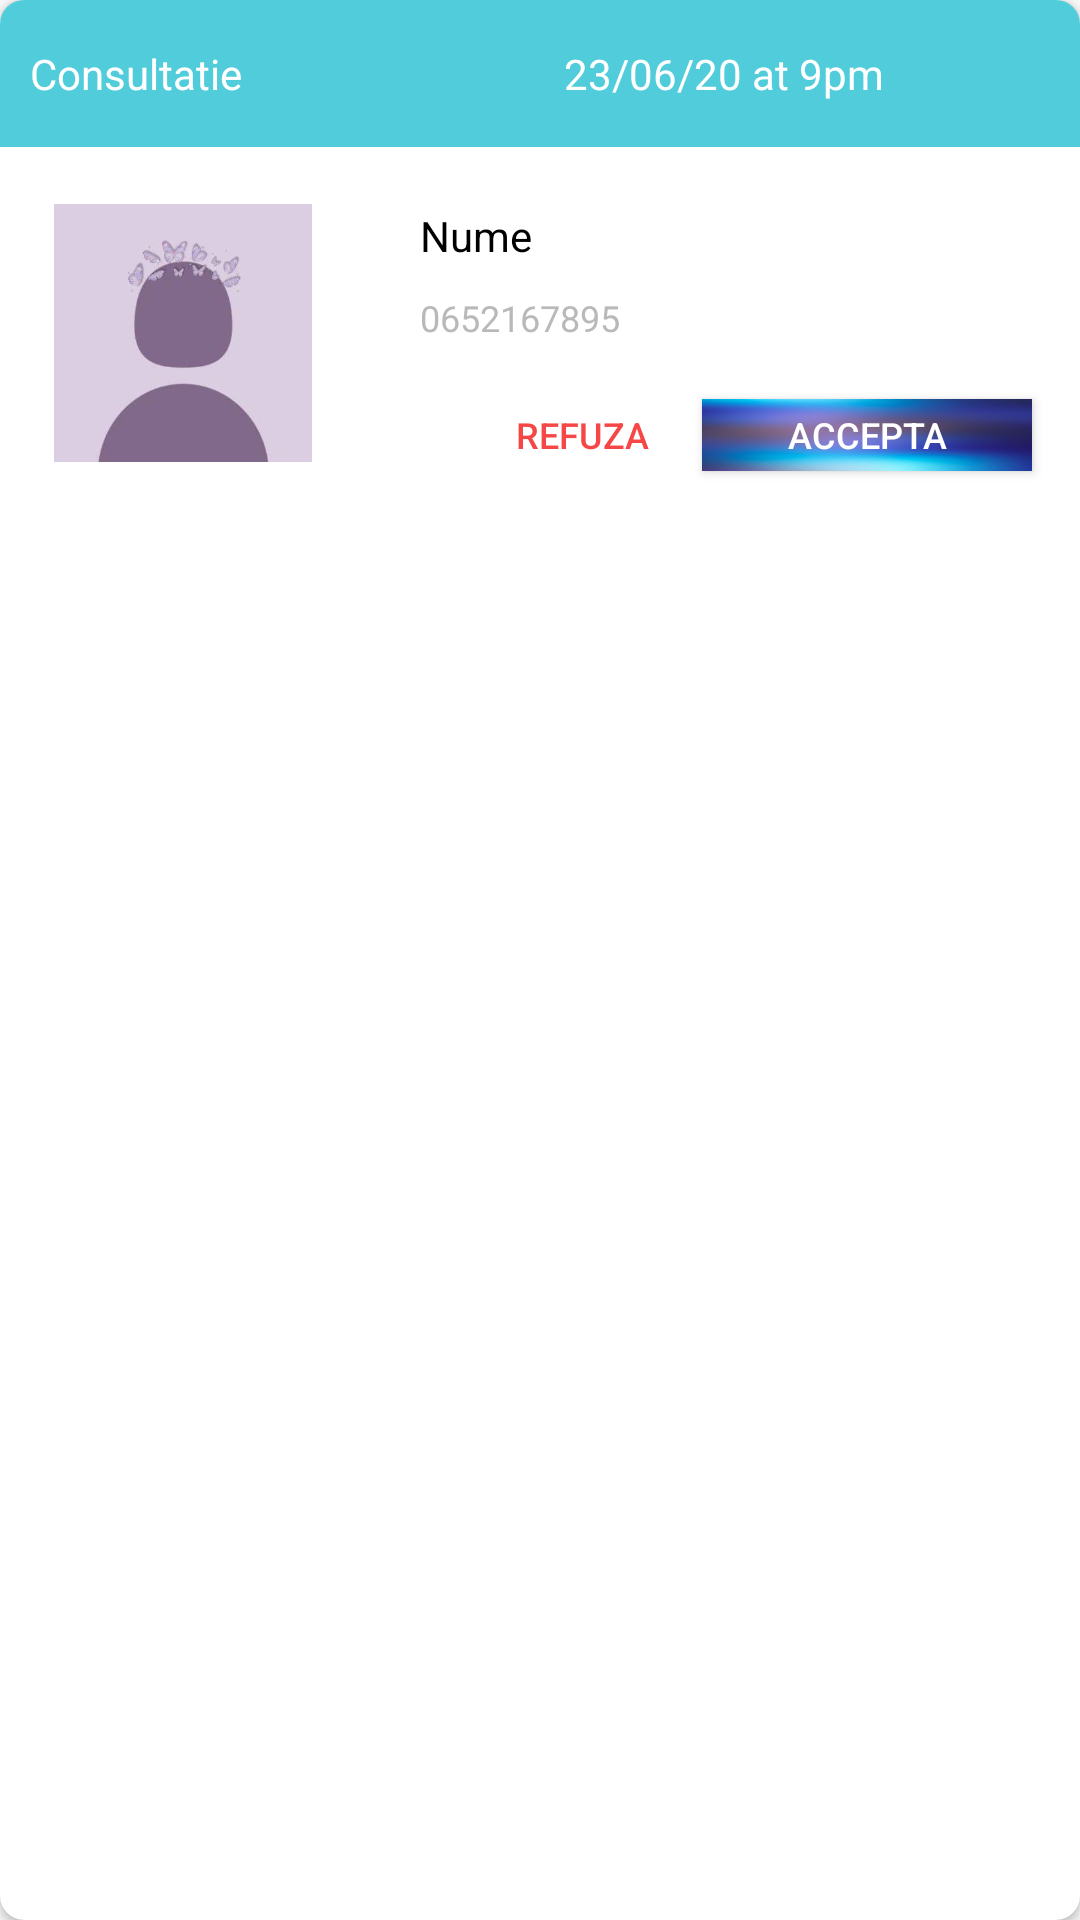

Icon bounding boxes for this 1080px x 1920px phone screenshot, format (left=x1, top=y1, right=x2, bottom=y2):
userprofile: (left=54, top=204, right=312, bottom=462)
